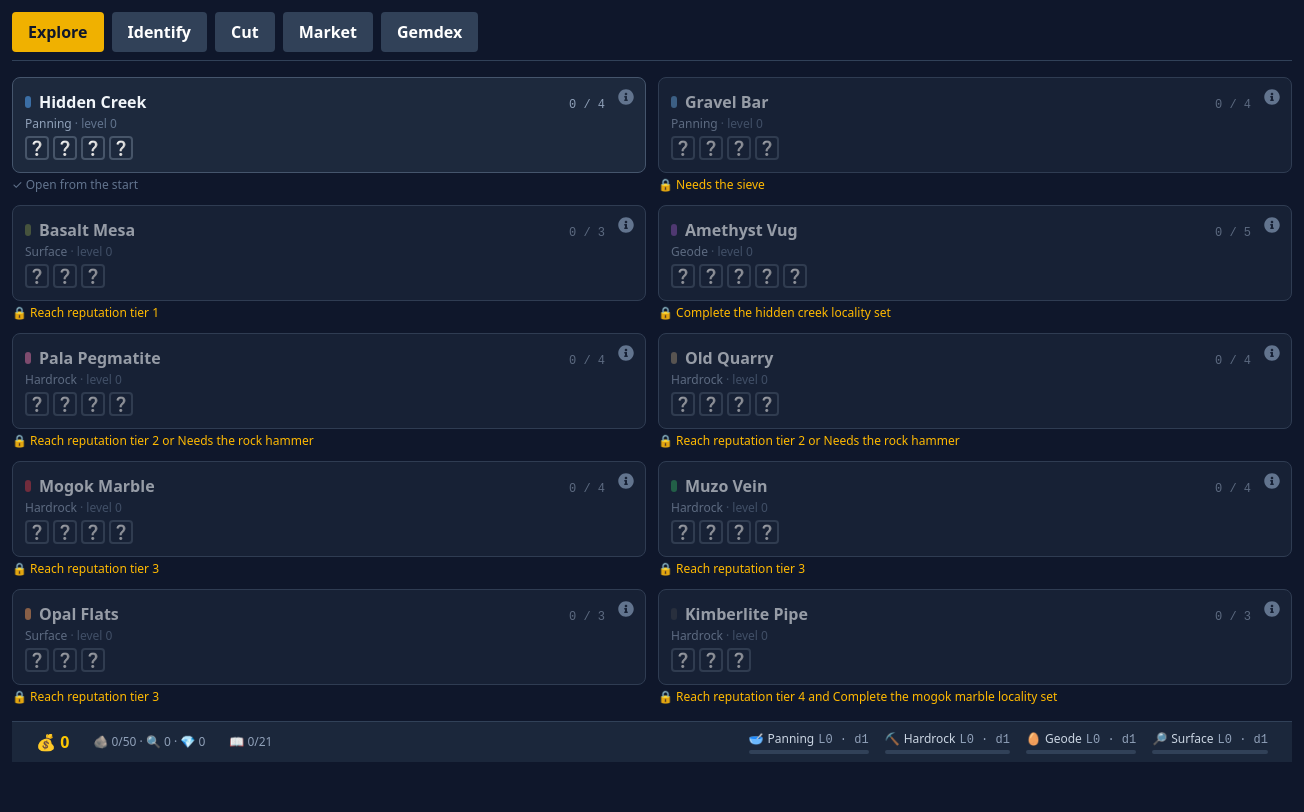
Rockhound shell › shows an empty-bench prompt in Identify when there is no rough
What coordinates should you click on to do the following:
click the button "Identify"
I would click on:
 (159, 32)
Its box is [112,12,207,52].
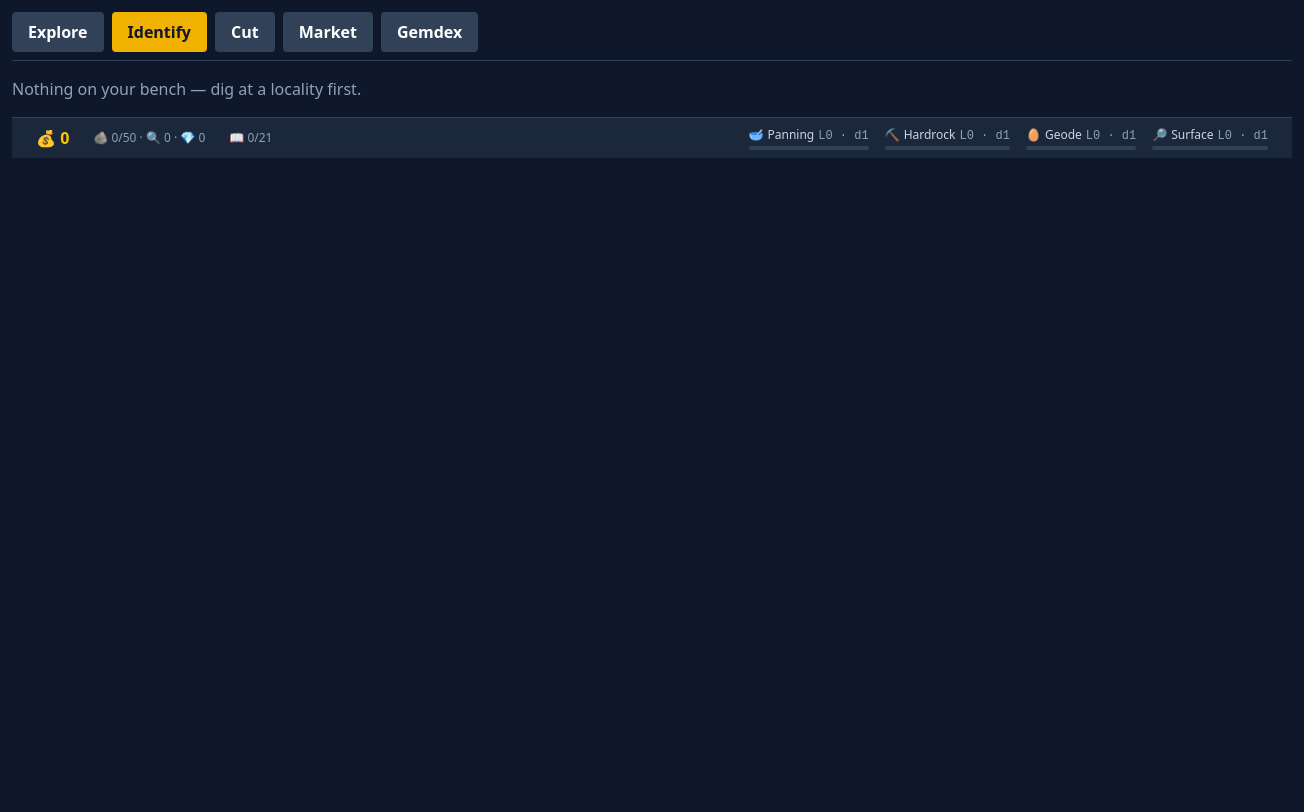
Expected: the text "Nothing on your bench — dig at a locality first." is shown, [12,78,361,100]
